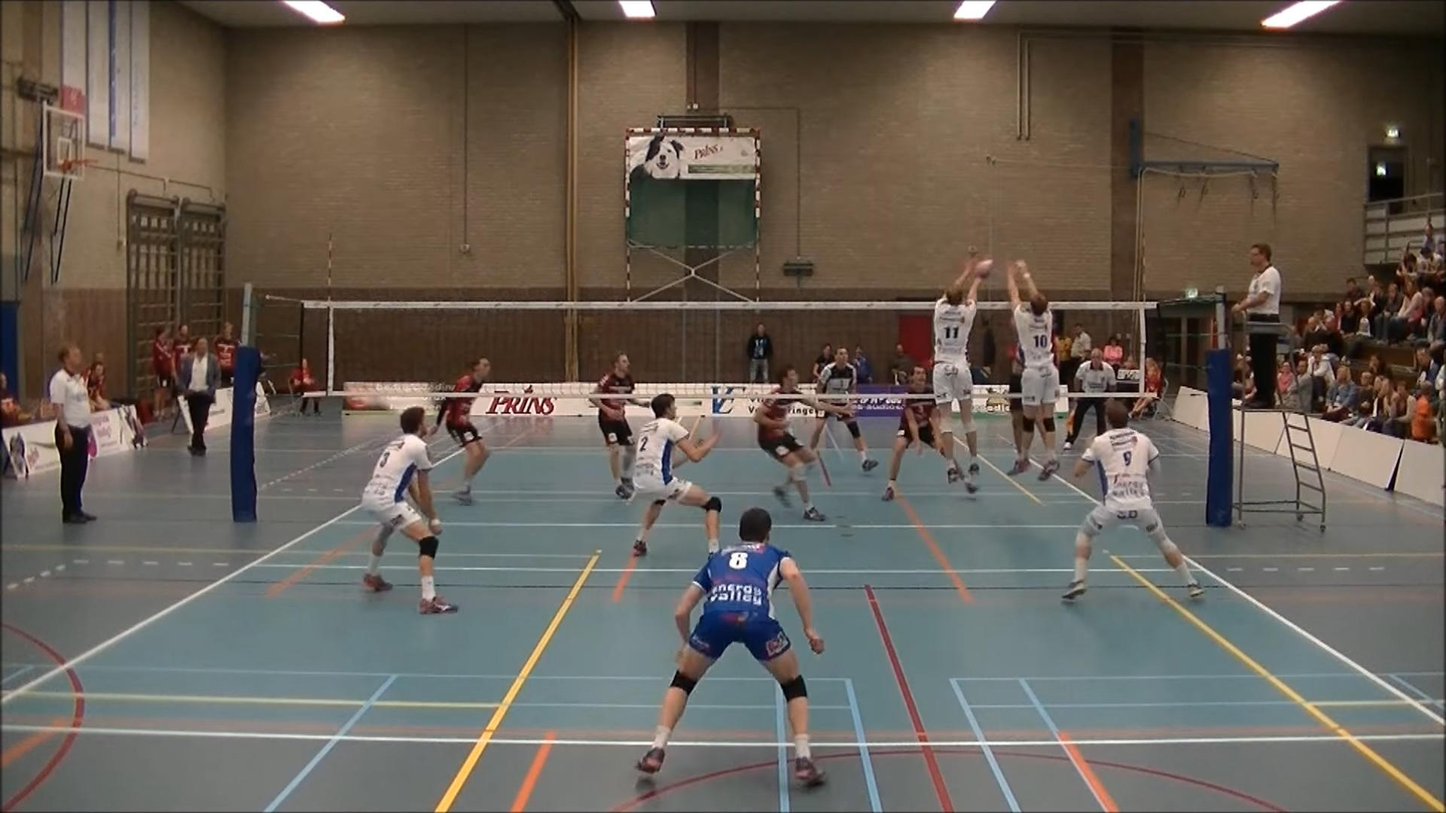Block: (988, 257, 1064, 485), (929, 248, 995, 497)
Player: (637, 507, 824, 785), (1063, 400, 1203, 600), (361, 406, 456, 614), (753, 365, 848, 521), (633, 394, 720, 556), (883, 367, 956, 501), (437, 358, 490, 504), (590, 352, 636, 498), (809, 410, 877, 472), (1007, 340, 1030, 475)
ball: (974, 257, 996, 278)
